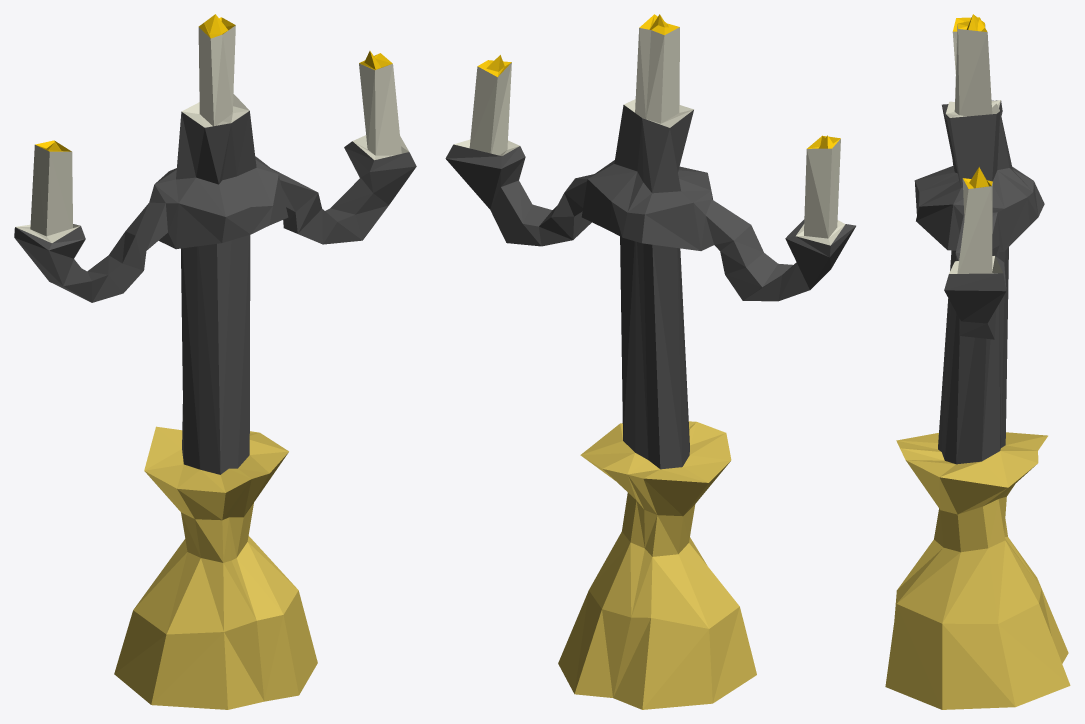
File: RG-Dungeon_Candlestick.fbx
3 views of the same model, side by side, from view 1: azimuth 30°, elevation 25°; view 2: azimuth 150°, elevation 25°; view 3: azimuth 270°, elevation 25° (orthographic).
Parts seen in each view (by area): view 1: RG-Dungeon_Candlestick; view 2: RG-Dungeon_Candlestick; view 3: RG-Dungeon_Candlestick.
Boxes of the visible parts, x1,y1,x2,y2 form: RG-Dungeon_Candlestick: (14, 14, 416, 709); RG-Dungeon_Candlestick: (445, 14, 855, 709); RG-Dungeon_Candlestick: (885, 14, 1070, 709).
Bounding box in the file's own units: 2.03 × 3.31 × 0.849.
